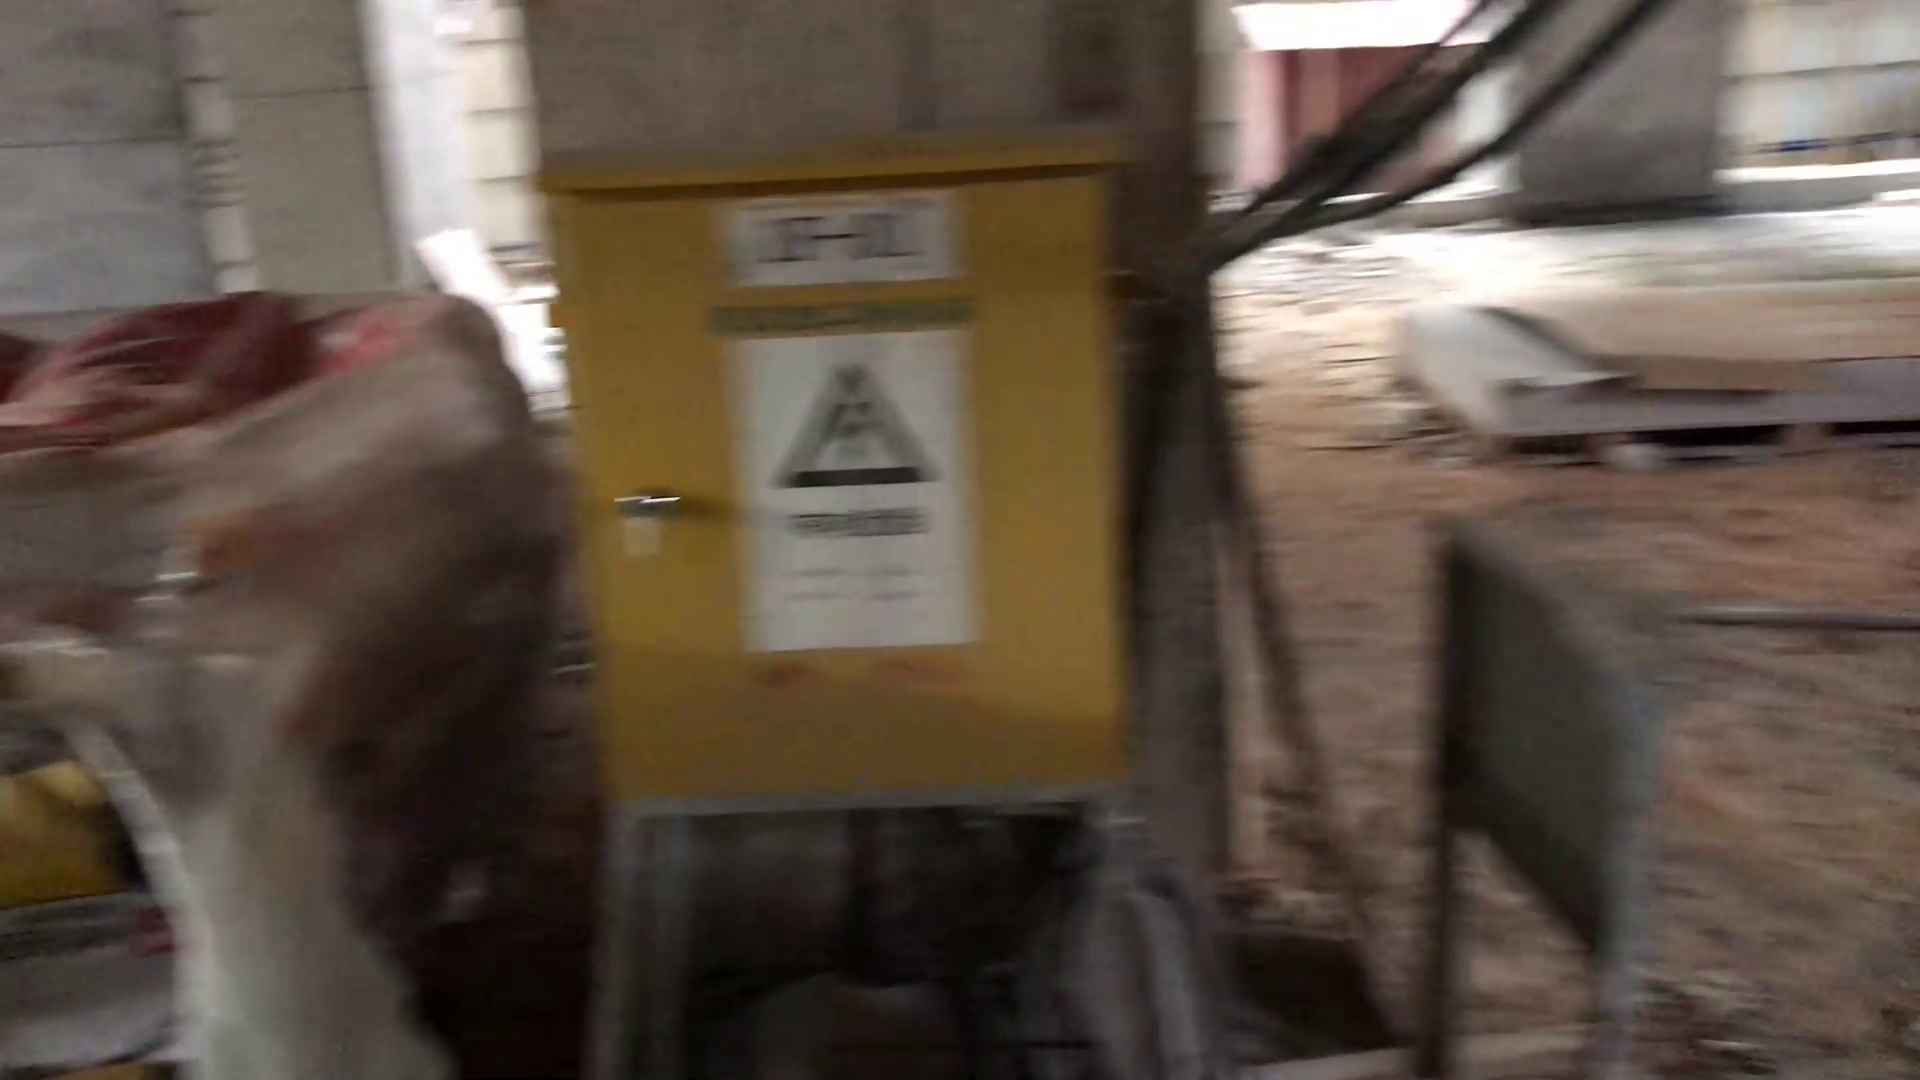ebox: (518, 128, 1192, 832)
